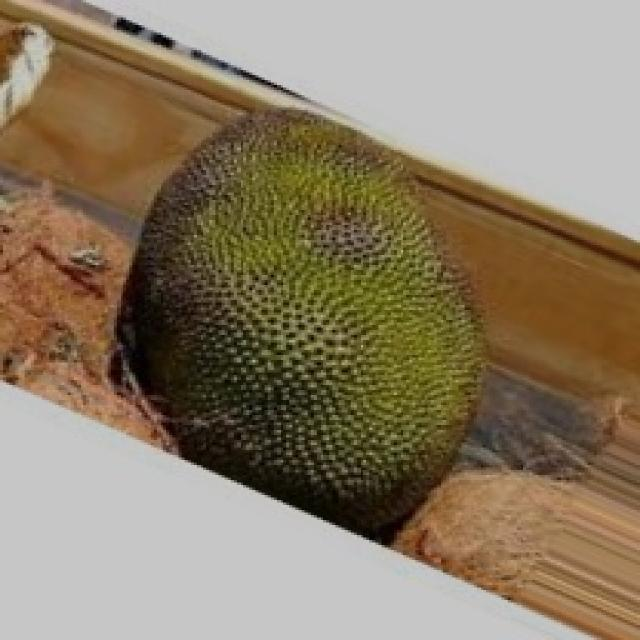Fruit: (127, 142, 536, 558)
